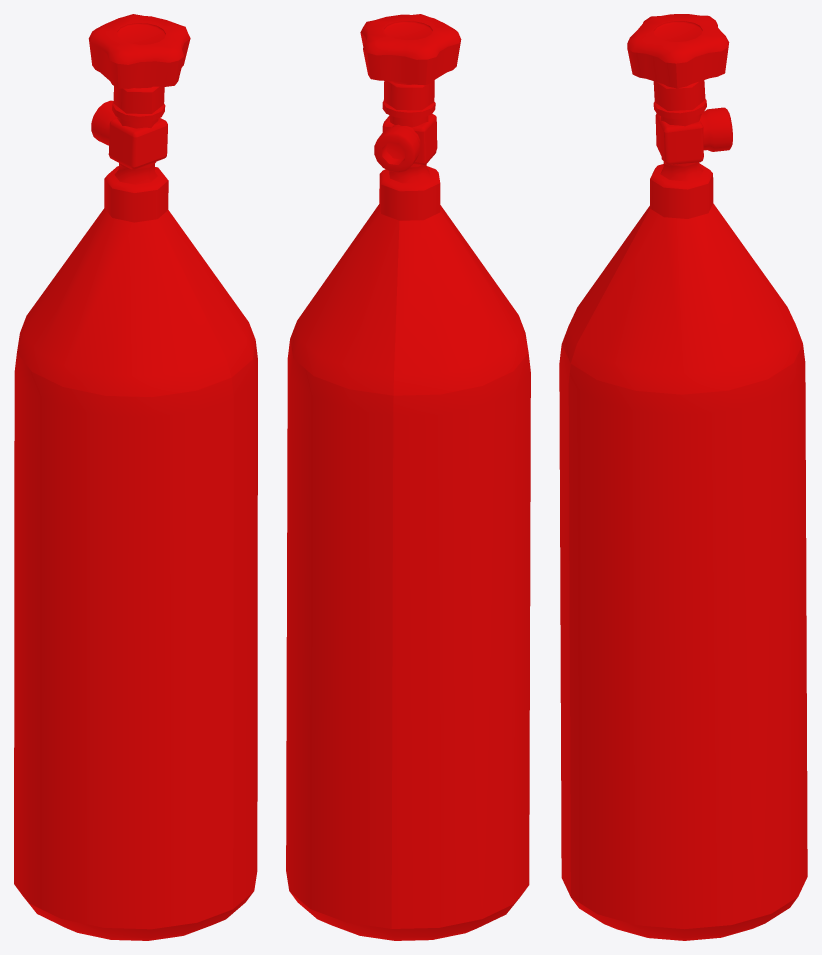
The model's file is SM_GasCilinder_01.glb.
The picture shows the model from 3 angles, left to right: view 1: azimuth 30°, elevation 25°; view 2: azimuth 150°, elevation 25°; view 3: azimuth 270°, elevation 25°; orthographic projection.
Parts seen in each view (by area): view 1: SM_GasCilinder_01_LOD0; view 2: SM_GasCilinder_01_LOD0; view 3: SM_GasCilinder_01_LOD0.
Part boxes in pixels (x1,y1,x2,y2): SM_GasCilinder_01_LOD0: (14,14,257,940); SM_GasCilinder_01_LOD0: (286,14,530,940); SM_GasCilinder_01_LOD0: (559,14,807,940).
Size of the model in its own units: 0.1462 by 0.5735 by 0.1471.
